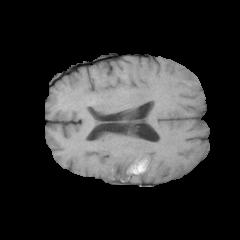glioma: (83, 139, 149, 181)
